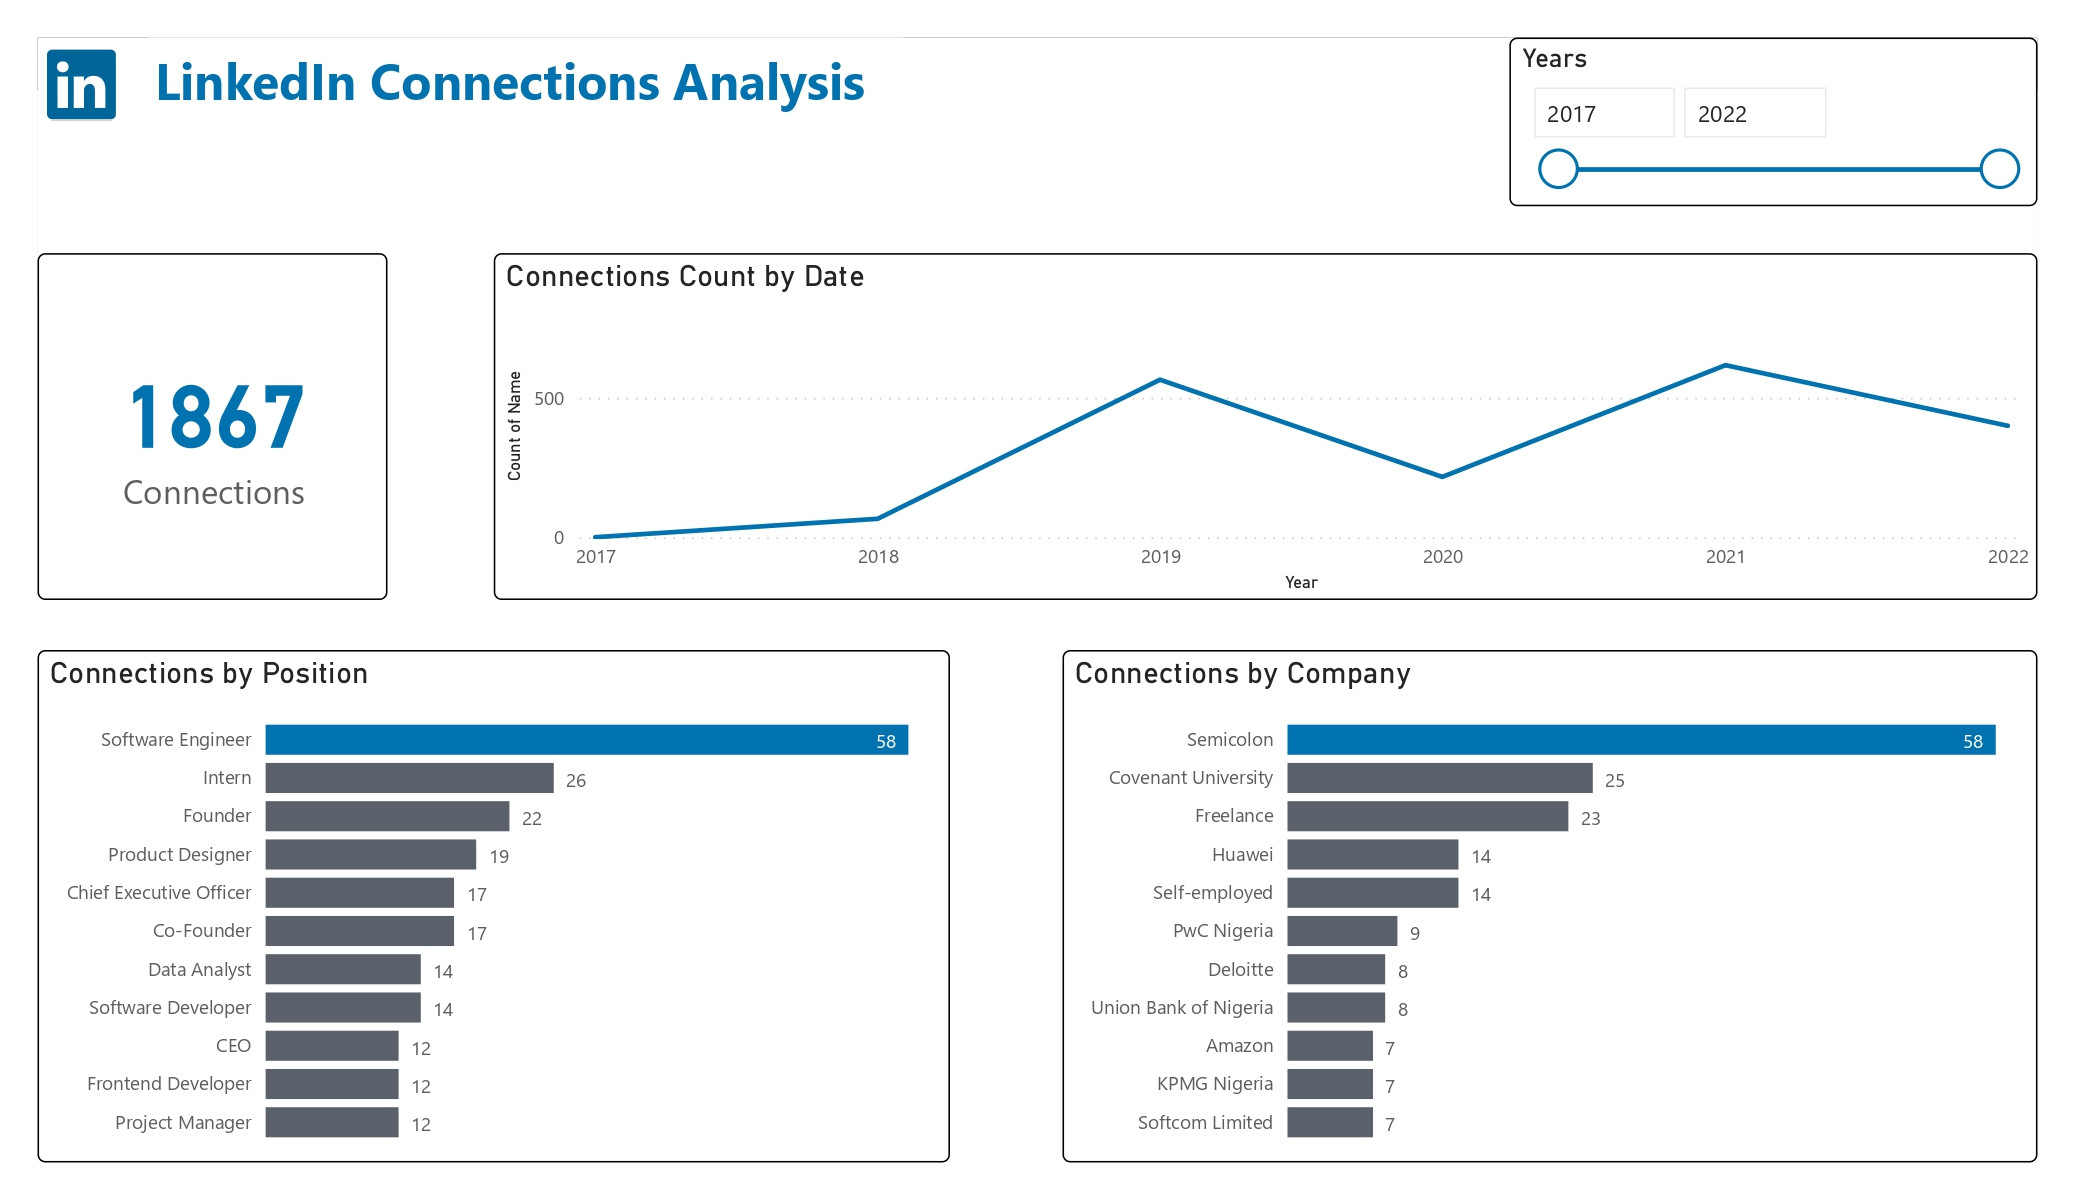

This screenshot's page, from the dashboard's own definition file:
{"tool":"powerbi","page":{"name":"Connections","canvas":[1280,720],"ordinal":0},"visuals":[{"type":"card","fields":{"Values":["Connections.Connections"]},"box":[0,138,224,222],"z":0},{"type":"lineChart","title":"Connections Count by Date","fields":{"Category":["Connections.Connected On.Variation.Date Hierarchy.Year","Connections.Connected On.Variation.Date Hierarchy.Month"],"Y":["CountNonNull(Connections.Name)"]},"box":[292,138,988,222],"z":1000},{"type":"clusteredBarChart","title":"Connections by Company","fields":{"Category":["Connections.Company"],"Y":["CountNonNull(Connections.Name)"]},"box":[656,392,624,328],"z":2000},{"type":"clusteredBarChart","title":"Connections by Position","fields":{"Category":["Connections.Position"],"Y":["CountNonNull(Connections.Name)"]},"box":[0,392,584,328],"z":3000},{"type":"slicer","title":"Years","fields":{"Values":["Connections.Connected On.Variation.Date Hierarchy.Year"]},"box":[942,0,338,108],"z":4000},{"type":"textbox","box":[70,0,484,60],"z":5000},{"type":"image","box":[0,0,56,60],"z":6000}]}

Visuals, with their boxes in screenshot pixels (x1, y1, x2, y2):
card - Connections.Connections: 38/253/388/600
"Connections Count by Date" lineChart: 494/253/2038/600
"Connections by Company" clusteredBarChart: 1062/650/2038/1162
"Connections by Position" clusteredBarChart: 38/650/950/1162
"Years" slicer: 1509/38/2038/206
textbox: 147/38/903/131
image: 38/38/125/131
